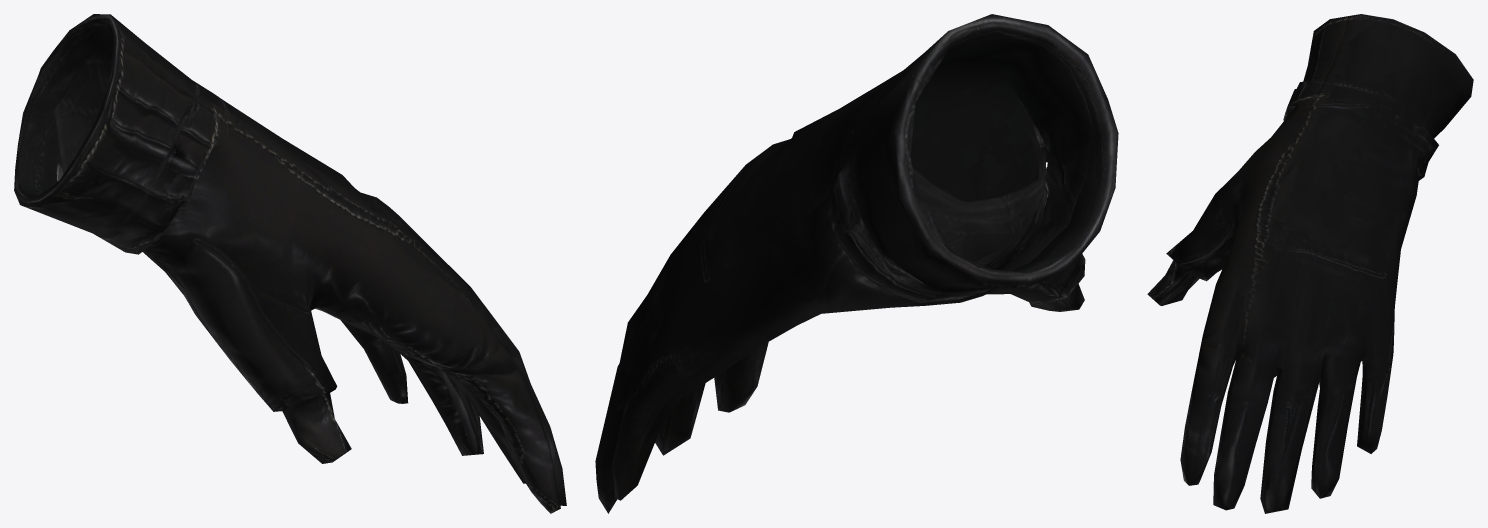
3 renders of one model, left to right at view 1: azimuth 30°, elevation 25°; view 2: azimuth 150°, elevation 25°; view 3: azimuth 270°, elevation 25°, orthographic. The views are drawn at different scales.
Parts seen in each view (by area): view 1: Mesh1.0; view 2: Mesh1.0; view 3: Mesh1.0.
Boxes of the visible parts, x1,y1,x2,y2 form: Mesh1.0: (14, 14, 566, 513); Mesh1.0: (595, 14, 1118, 513); Mesh1.0: (1147, 14, 1473, 513).
Size of the model in its own units: 188 by 199 by 160.
1 material, 1 textured.
